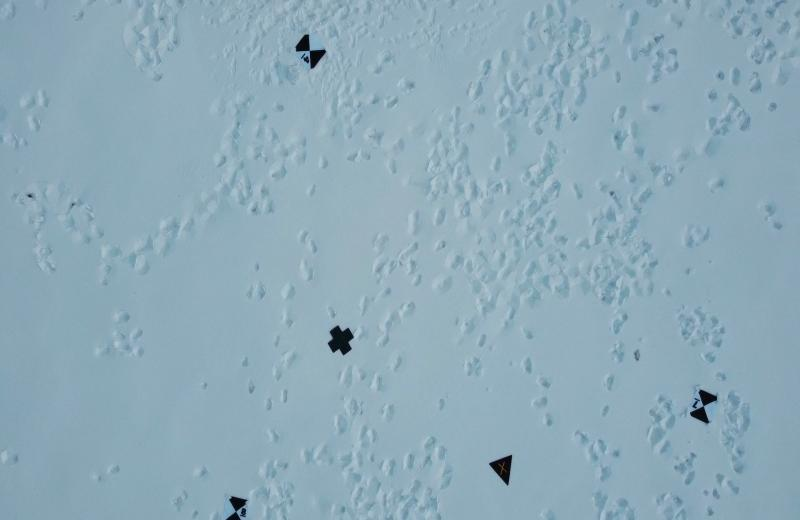Cross: (324, 320, 355, 356)
Triangle: (488, 448, 515, 488)
